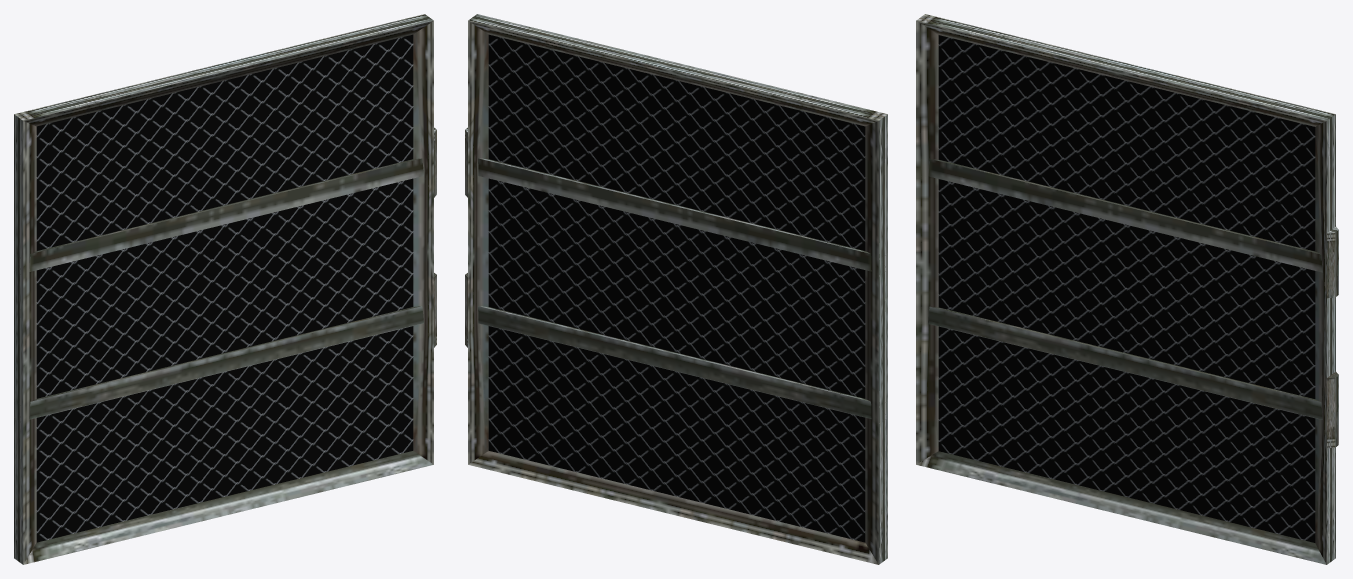
The model's file is TM3_WIREDOOR_01.glb.
3 renders of one model, left to right at view 1: azimuth 30°, elevation 25°; view 2: azimuth 150°, elevation 25°; view 3: azimuth 330°, elevation 25°, orthographic.
Visible parts, largest first — view 1: TM3_WIREDOOR_01; view 2: TM3_WIREDOOR_01; view 3: TM3_WIREDOOR_01.
Part boxes in pixels (x1,y1,x2,y2): TM3_WIREDOOR_01: (14, 14, 436, 564); TM3_WIREDOOR_01: (465, 14, 887, 564); TM3_WIREDOOR_01: (916, 14, 1338, 564).
Size of the model in its own units: 2 by 2.04 by 0.076.
2 materials, 2 textured.
